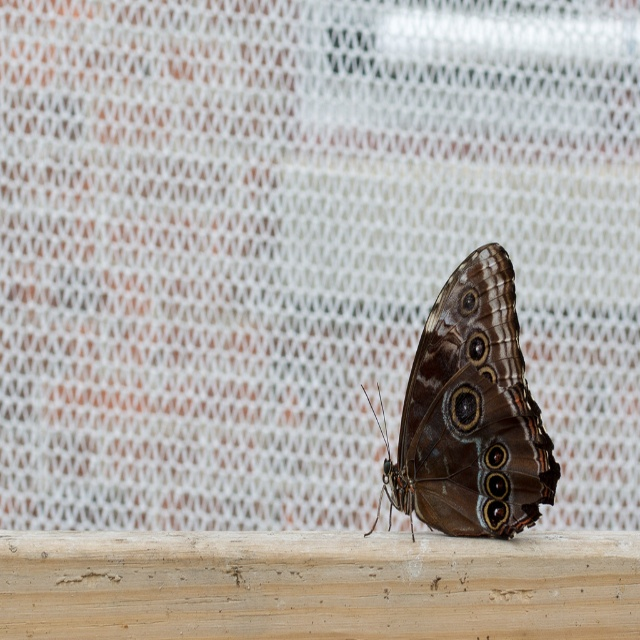Butterfly: (358, 238, 552, 578)
